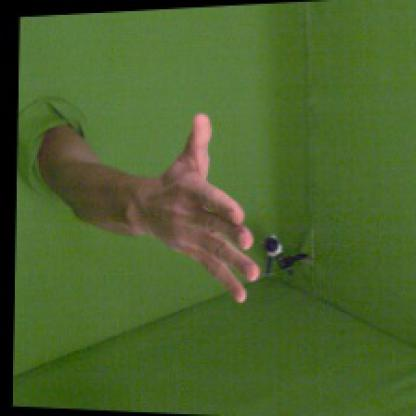Hand: (147, 114, 261, 304)
